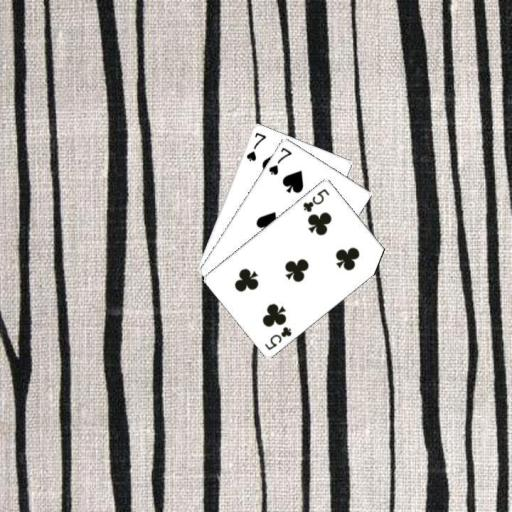5C: (299, 185, 331, 213), (262, 323, 293, 351)
7S: (265, 144, 293, 176), (244, 129, 268, 162)
